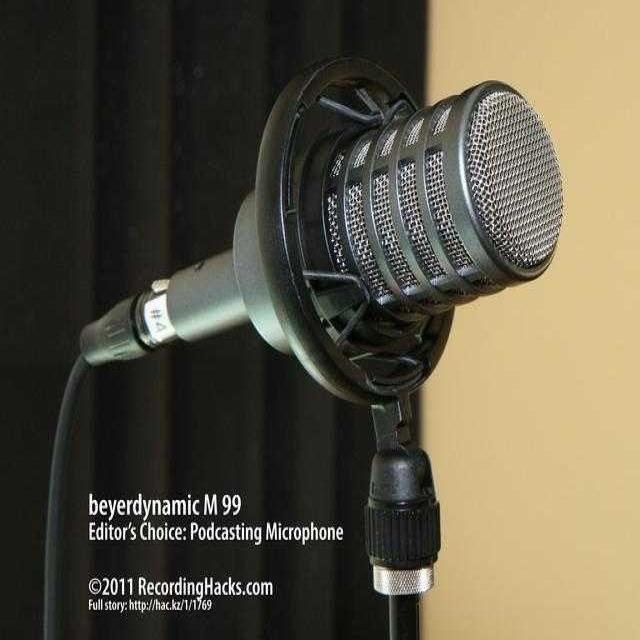microphone: (89, 67, 556, 392)
